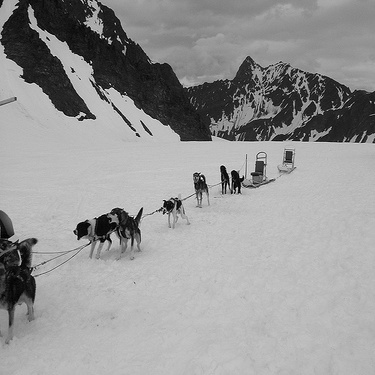dog: (5, 226, 46, 358), (97, 198, 149, 257), (67, 209, 115, 270), (156, 189, 191, 238), (2, 222, 23, 294), (183, 171, 214, 212), (210, 158, 233, 199), (226, 166, 248, 202)
